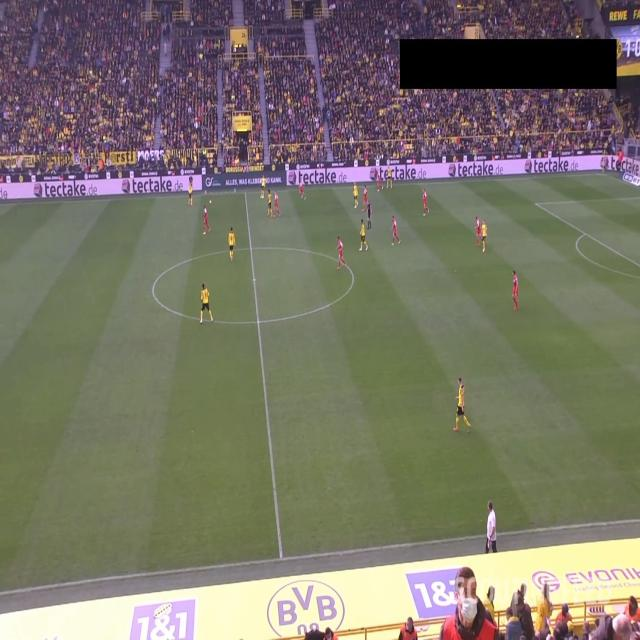ball: (208, 199, 212, 205)
